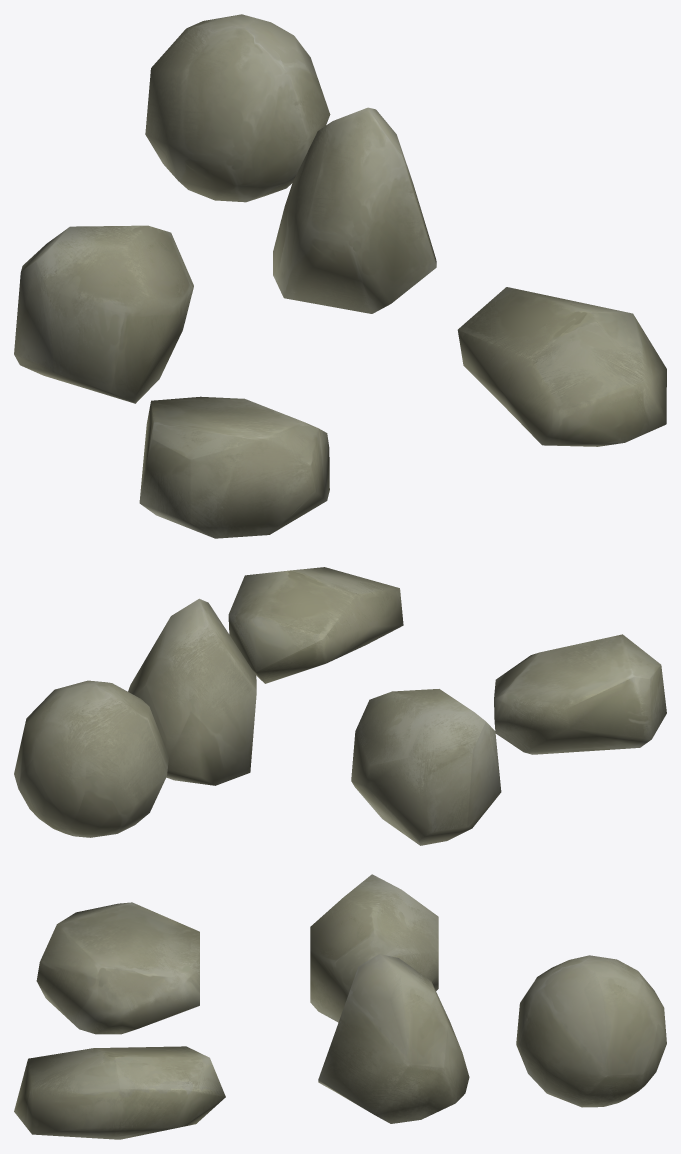
File: stones.FBX
The picture shows the model from 3 angles, top to bottom: view 1: azimuth 30°, elevation 25°; view 2: azimuth 150°, elevation 25°; view 3: azimuth 270°, elevation 25°; orthographic projection. The views are drawn at different scales.
Visible parts, largest first — view 1: stoneSphere, stoneBox, stoneCake, stoneCone, stoneFlat; view 2: stoneSphere, stoneBox, stoneFlat, stoneCone, stoneCake; view 3: stoneSphere, stoneCone, stoneFlat, stoneCake, stoneBox.
Boxes of the visible parts, x1=… form: stoneSphere: x1=145, y1=14, x2=330, y2=202; stoneBox: x1=14, y1=225, x2=193, y2=403; stoneCake: x1=457, y1=287, x2=666, y2=446; stoneCone: x1=273, y1=107, x2=436, y2=313; stoneFlat: x1=139, y1=396, x2=329, y2=538; stoneSphere: x1=14, y1=680, x2=168, y2=837; stoneBox: x1=351, y1=689, x2=501, y2=845; stoneFlat: x1=494, y1=634, x2=666, y2=754; stoneCone: x1=128, y1=598, x2=256, y2=785; stoneCake: x1=228, y1=567, x2=403, y2=683; stoneSphere: x1=516, y1=955, x2=666, y2=1107; stoneCone: x1=318, y1=954, x2=469, y2=1123; stoneFlat: x1=36, y1=902, x2=199, y2=1034; stoneCake: x1=14, y1=1046, x2=225, y2=1139; stoneBox: x1=310, y1=874, x2=438, y2=1022.
Size of the model in its own units: 584 by 226 by 811.
